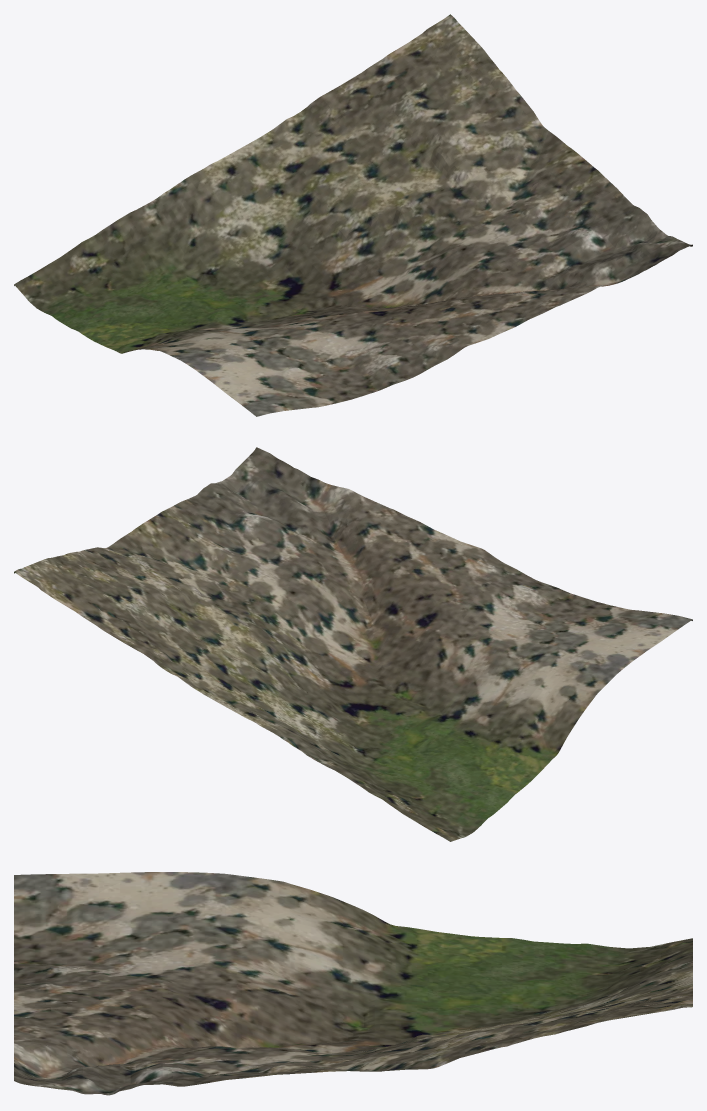
3 views of the same model, one above another, from view 1: azimuth 30°, elevation 25°; view 2: azimuth 150°, elevation 25°; view 3: azimuth 270°, elevation 25° (orthographic). The views are drawn at different scales.
Bounding box in the file's own units: 250 × 94.63 × 241.
1 material, 1 textured.
